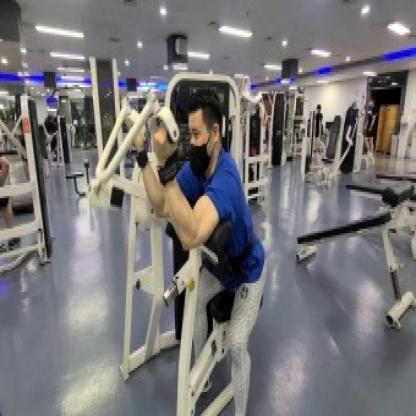arm curl machine: (96, 87, 267, 416)
